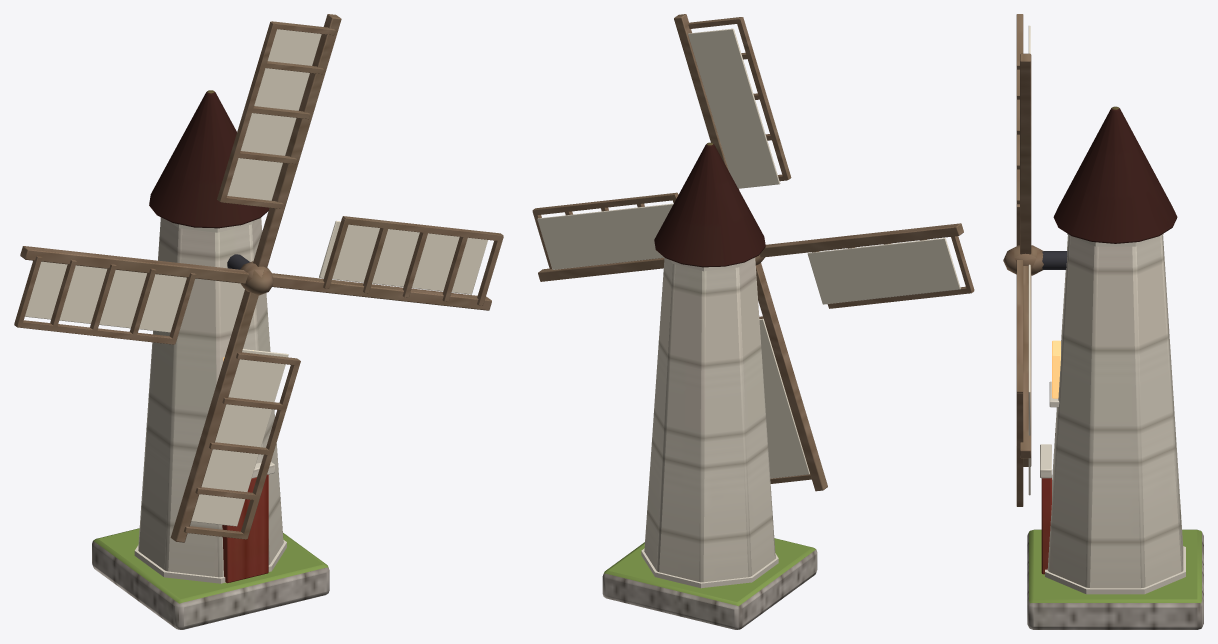
The model's file is unlock-windmill-ha.glb.
The picture shows the model from 3 angles, left to right: view 1: azimuth 30°, elevation 25°; view 2: azimuth 150°, elevation 25°; view 3: azimuth 270°, elevation 25°; orthographic projection. The views are drawn at different scales.
Visible parts, largest first — view 1: pivot-mesh, unlock-windmill-static; view 2: unlock-windmill-static, pivot-mesh; view 3: unlock-windmill-static, pivot-mesh.
Boxes of the visible parts, left/top/right/bottom form: pivot-mesh: left=14, top=14, right=503, bottom=542; unlock-windmill-static: left=92, top=90, right=329, bottom=629; unlock-windmill-static: left=602, top=142, right=817, bottom=629; pivot-mesh: left=532, top=14, right=974, bottom=491; unlock-windmill-static: left=1027, top=106, right=1203, bottom=629; pivot-mesh: left=1003, top=14, right=1043, bottom=506.
Size of the model in its own units: 1.74 by 2.02 by 0.625.
Materials: 15 (12 with a texture image).
